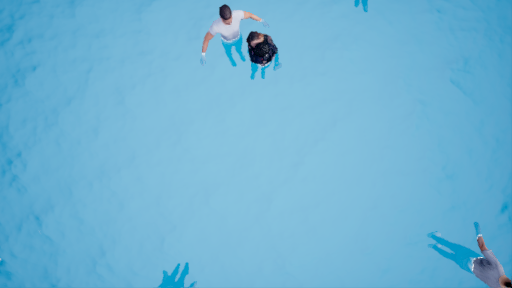person: (194, 5, 286, 83), (417, 217, 512, 287)
